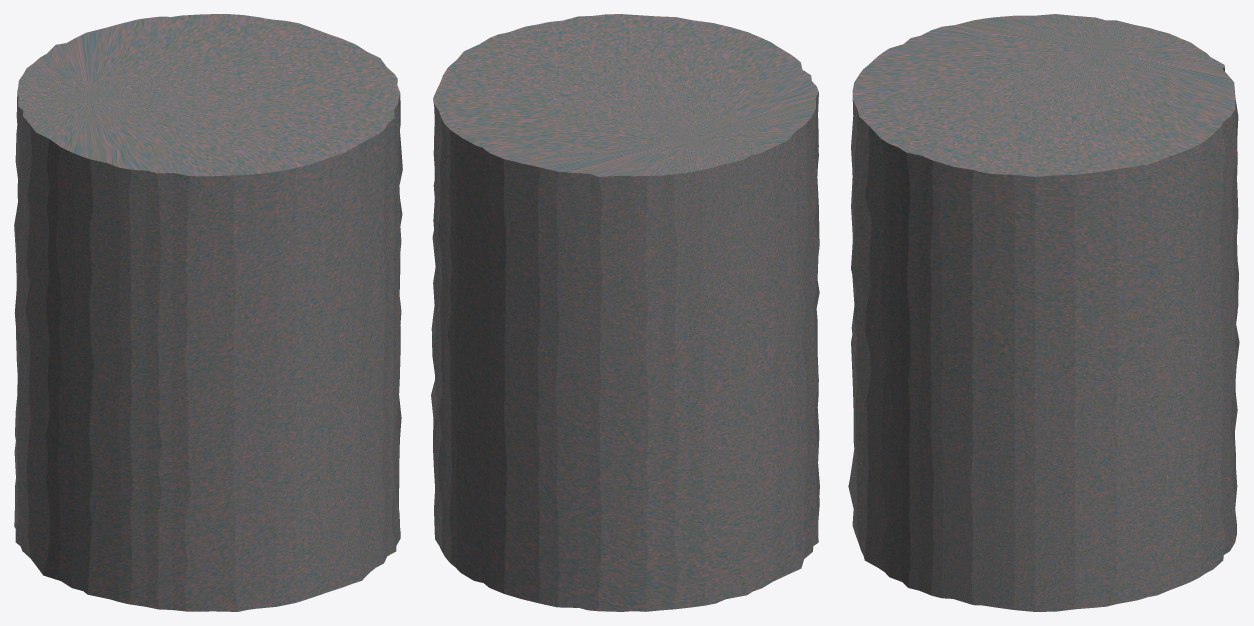
The model's file is barrel_32.dae.
3 renders of one model, left to right at view 1: azimuth 30°, elevation 25°; view 2: azimuth 150°, elevation 25°; view 3: azimuth 270°, elevation 25°, orthographic.
Parts seen in each view (by area): view 1: Cylinder; view 2: Cylinder; view 3: Cylinder.
Part boxes in pixels (x1,y1,x2,y2): Cylinder: (14,14,402,611); Cylinder: (431,14,819,611); Cylinder: (848,14,1239,611).
Size of the model in its own units: 0.8233 by 0.8165 by 1.
Materials: 1 (1 with a texture image).
